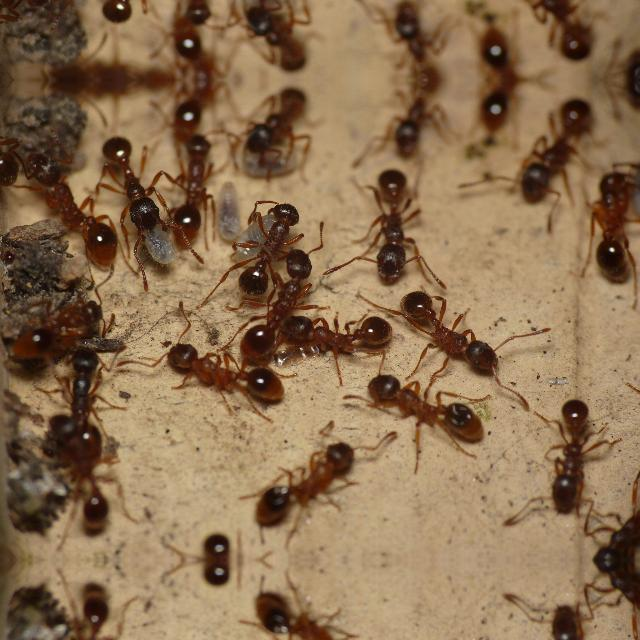Myrmica: (3, 142, 128, 268), (394, 280, 528, 380), (502, 92, 616, 208), (520, 390, 622, 516), (354, 363, 494, 453), (238, 435, 366, 533), (36, 418, 138, 536), (151, 333, 295, 411), (350, 158, 440, 280), (222, 190, 324, 296), (34, 339, 124, 448), (230, 81, 330, 179), (160, 129, 238, 251), (562, 156, 636, 282), (89, 128, 173, 236), (234, 268, 326, 356), (9, 286, 116, 360), (230, 0, 330, 78), (502, 0, 616, 68), (274, 306, 402, 366), (372, 80, 470, 158), (372, 2, 470, 80), (237, 586, 366, 640), (36, 582, 136, 640), (576, 468, 640, 558), (465, 80, 567, 132), (465, 28, 567, 80), (159, 80, 253, 134), (159, 26, 253, 80), (576, 562, 638, 640), (518, 604, 622, 640), (173, 521, 267, 559), (173, 561, 267, 599), (89, 0, 173, 32), (160, 0, 238, 30), (0, 102, 26, 186), (0, 0, 26, 58)
